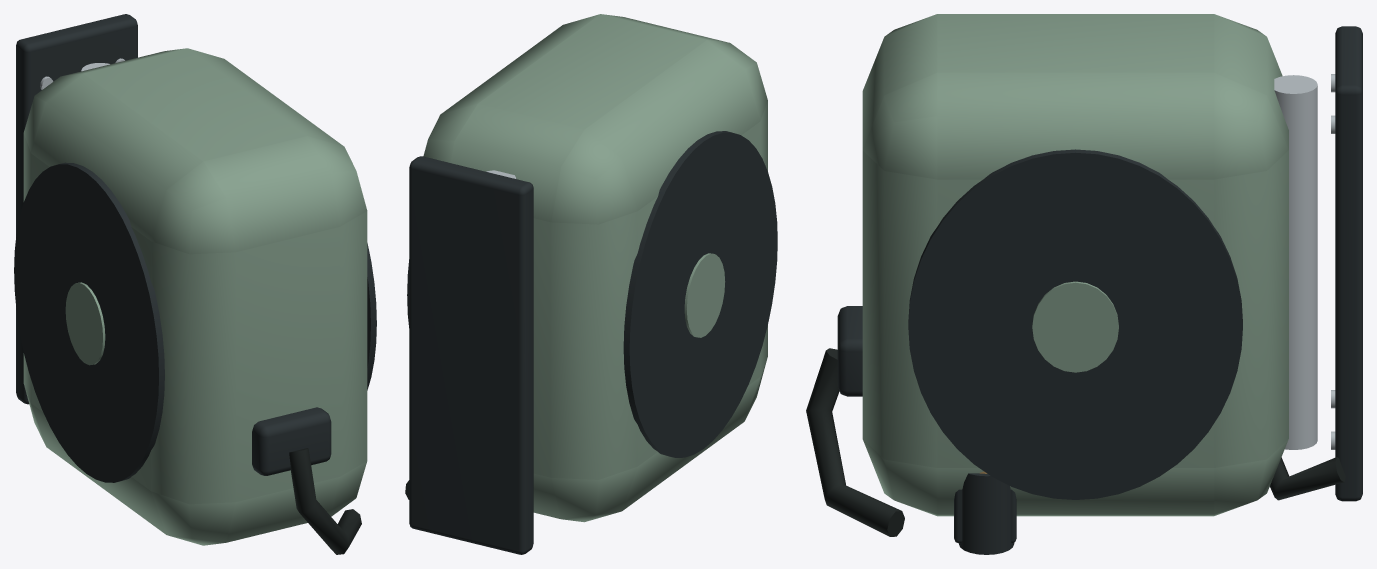
The model's file is wall-hose-reel.glb.
3 renders of one model, left to right at view 1: azimuth 30°, elevation 25°; view 2: azimuth 150°, elevation 25°; view 3: azimuth 270°, elevation 25°, orthographic. The views are drawn at different scales.
Visible parts, largest first — view 1: wall-hose-reel authored assembly; view 2: wall-hose-reel authored assembly; view 3: wall-hose-reel authored assembly.
Part boxes in pixels (x1=…): wall-hose-reel authored assembly: x1=14, y1=14, x2=376, y2=554; wall-hose-reel authored assembly: x1=405, y1=14, x2=777, y2=554; wall-hose-reel authored assembly: x1=806, y1=14, x2=1362, y2=554.
Bounding box in the file's own units: 0.25 × 0.42 × 0.47.
